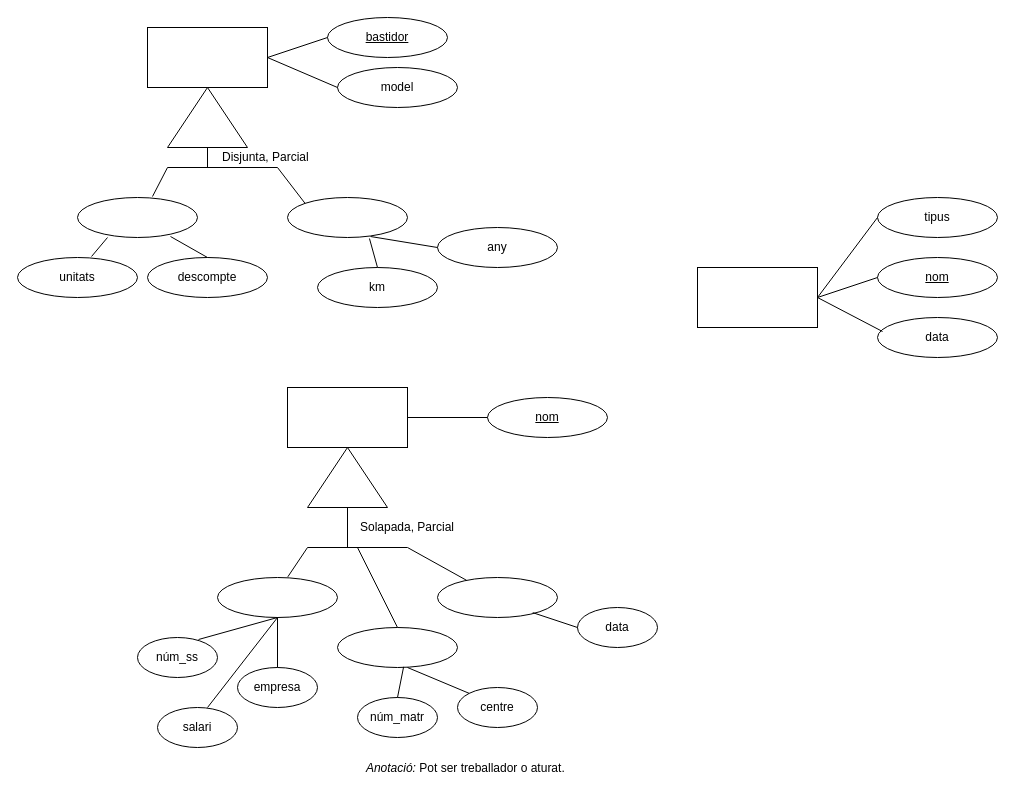
The diagram is 1015 pixels wide and 792 high, and some of its shapes have lost their labels. The shapes that lost their labels are listed below. From the top down, each one's box as (x1, y1, x2, y2) in pixels, then its label:
(146, 26, 268, 88): COTXES
(76, 196, 198, 238): NOUS
(286, 196, 408, 238): USATS
(696, 266, 818, 328): FUTBOLISTES
(286, 386, 408, 448): PERSONES
(216, 576, 338, 618): TREBALLADORS
(436, 576, 558, 618): ATURATS
(336, 626, 458, 668): ESTUDIANTS
